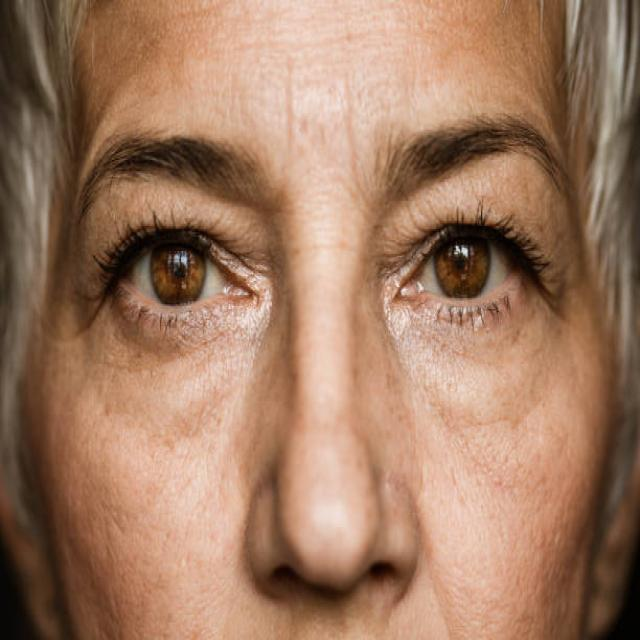Dry-Skin: (430, 353, 578, 615), (70, 391, 214, 634), (228, 18, 388, 228)
